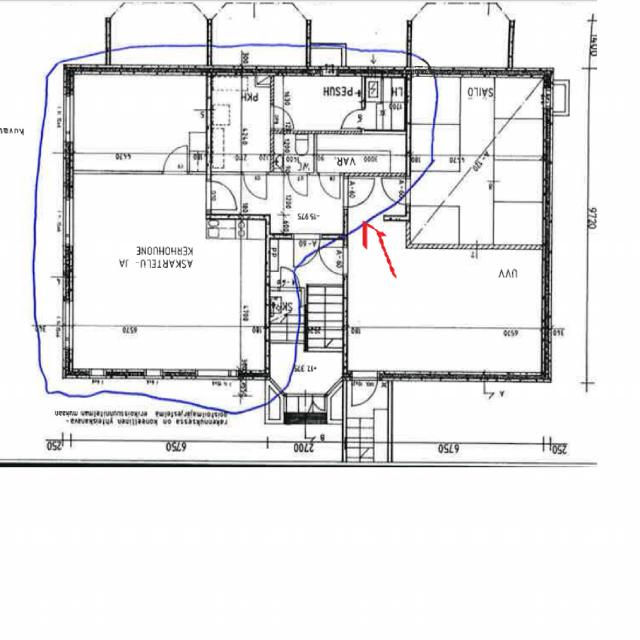door: (343, 178, 374, 207), (294, 234, 320, 268), (207, 182, 236, 210), (164, 146, 187, 176), (244, 172, 266, 200), (270, 106, 294, 129), (320, 172, 340, 198), (288, 172, 308, 197), (344, 110, 366, 128)
